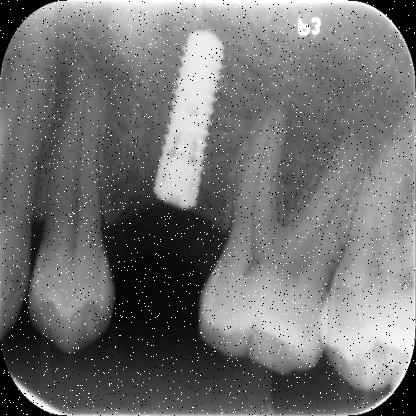ITI: (130, 32, 233, 214)
